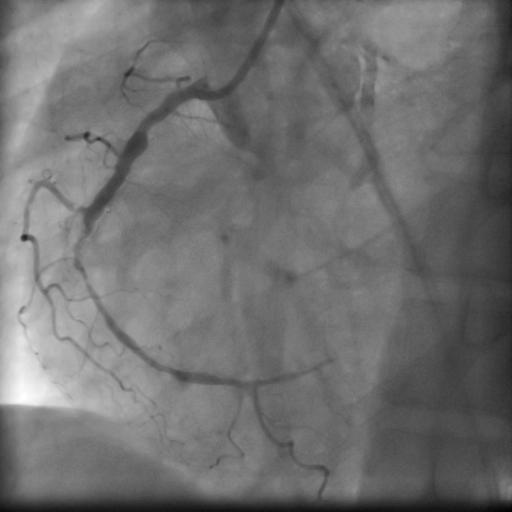Stenosis: (136, 109, 158, 134)
